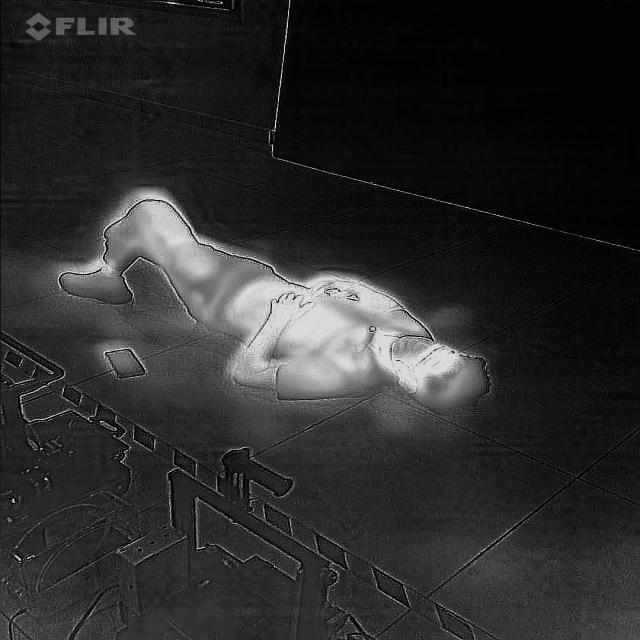Victim: (49, 188, 500, 429)
